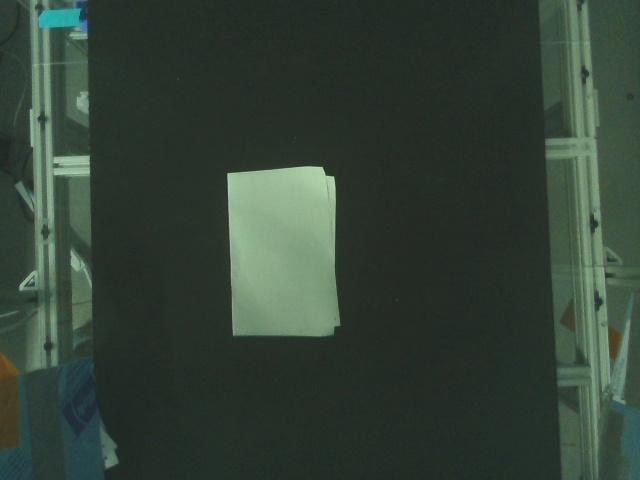paper: (223, 162, 345, 342)
